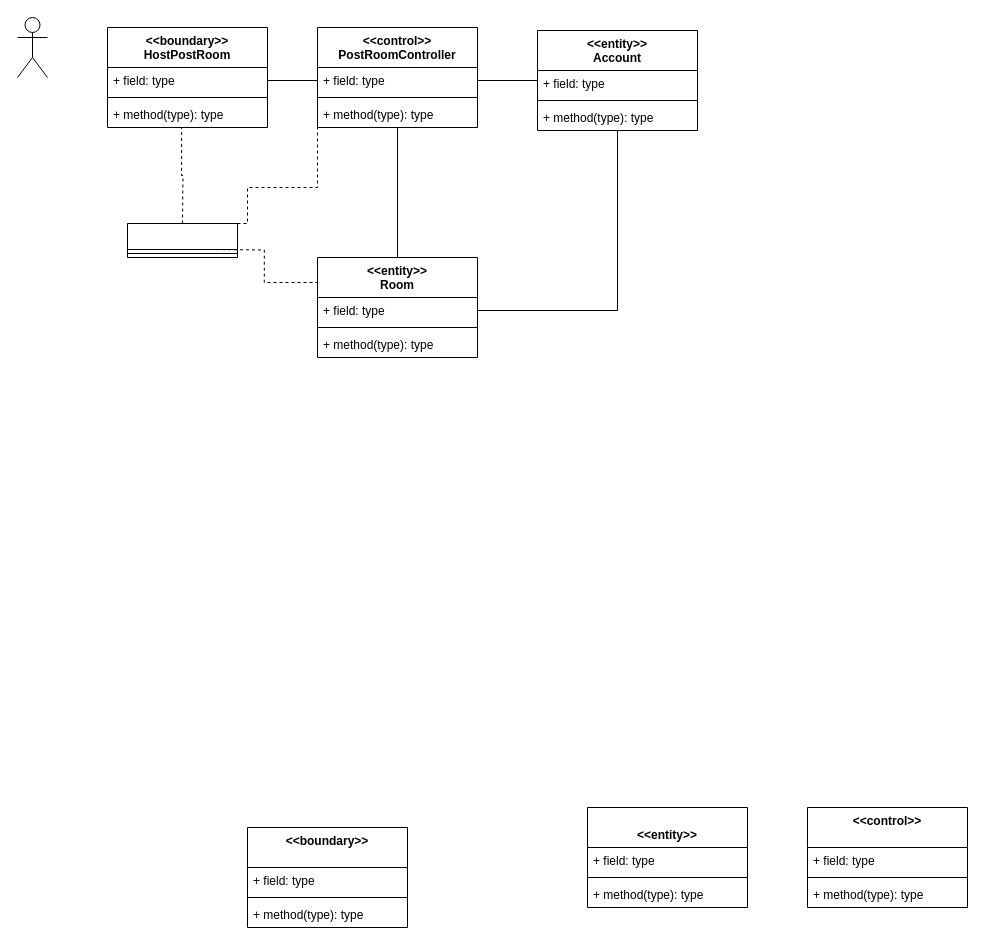
Some shapes in this 985 by 948 pixel diagram are drawn without their labels. The shapes that lost their labels are listed below. From the top down, each one's centre as x and y in pixels, then its label:
At (32,47): "Host".
At (182,240): "RoomBean".
